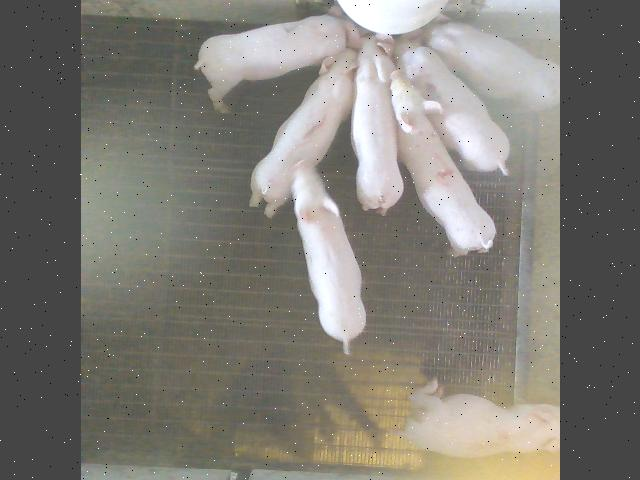pig-1: (249, 49, 356, 218)
pig-3: (399, 380, 558, 458)
pig-4: (390, 71, 494, 255)
